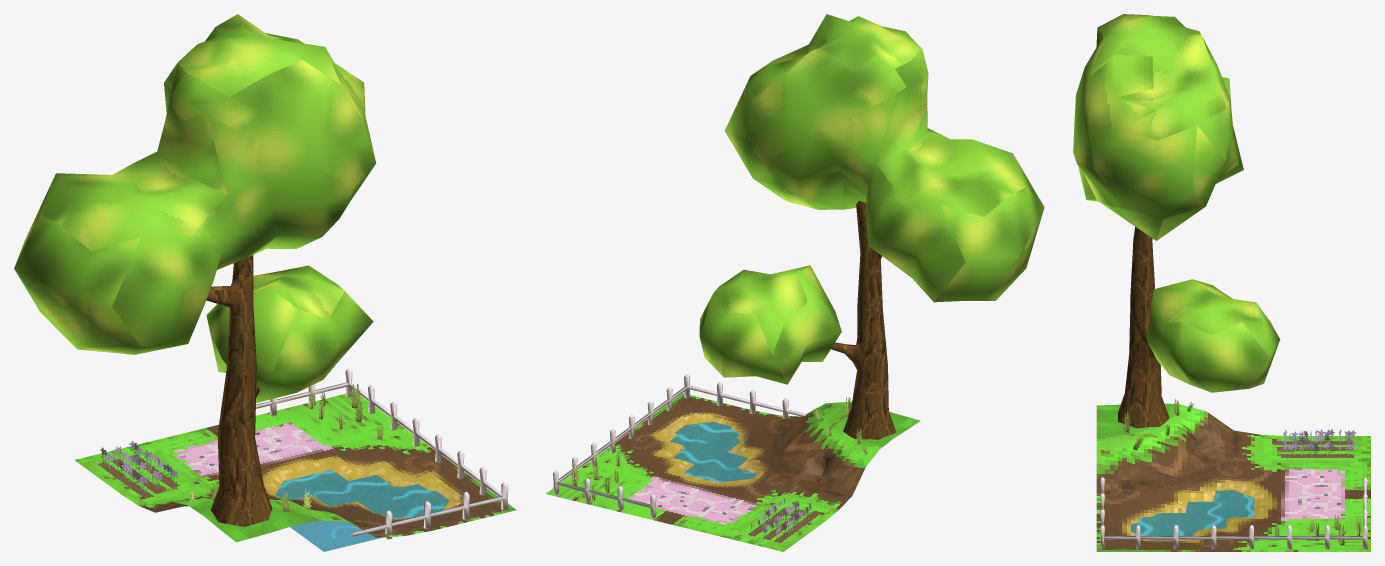
Rendered from Sunny and Na.glb.
3 views of the same model, side by side, from view 1: azimuth 30°, elevation 25°; view 2: azimuth 150°, elevation 25°; view 3: azimuth 270°, elevation 25° (orthographic). The views are drawn at different scales.
Parts seen in each view (by area): view 1: Icosphere, Plane, Cylinder, Plane.001, Cube.001, Cube.002, Cube; view 2: Icosphere, Plane, Cylinder, Plane.001, Cube.001, Cube.002, Cube; view 3: Icosphere, Plane, Cylinder, Plane.001, Cube.001.
Part boxes in pixels (x1,y1,x2,y2): Icosphere: (14, 14, 376, 402); Plane: (74, 392, 516, 542); Cylinder: (206, 255, 272, 526); Plane.001: (275, 469, 448, 551); Cube.001: (345, 369, 501, 496); Cube.002: (351, 482, 508, 539); Cube: (256, 382, 348, 416); Icosphere: (699, 14, 1044, 384); Plane: (546, 393, 920, 551); Cylinder: (831, 200, 895, 439); Plane.001: (669, 422, 757, 482); Cube.001: (553, 386, 687, 494); Cube.002: (684, 374, 806, 418); Cube: (556, 478, 656, 518); Icosphere: (1073, 14, 1280, 392); Plane: (1096, 403, 1370, 551); Cylinder: (1117, 226, 1169, 428); Plane.001: (1131, 490, 1254, 540); Cube.001: (1104, 525, 1367, 549).
Bounding box in the file's own units: 19.25 × 21.62 × 13.03.
Materials: 7 (7 with a texture image).
